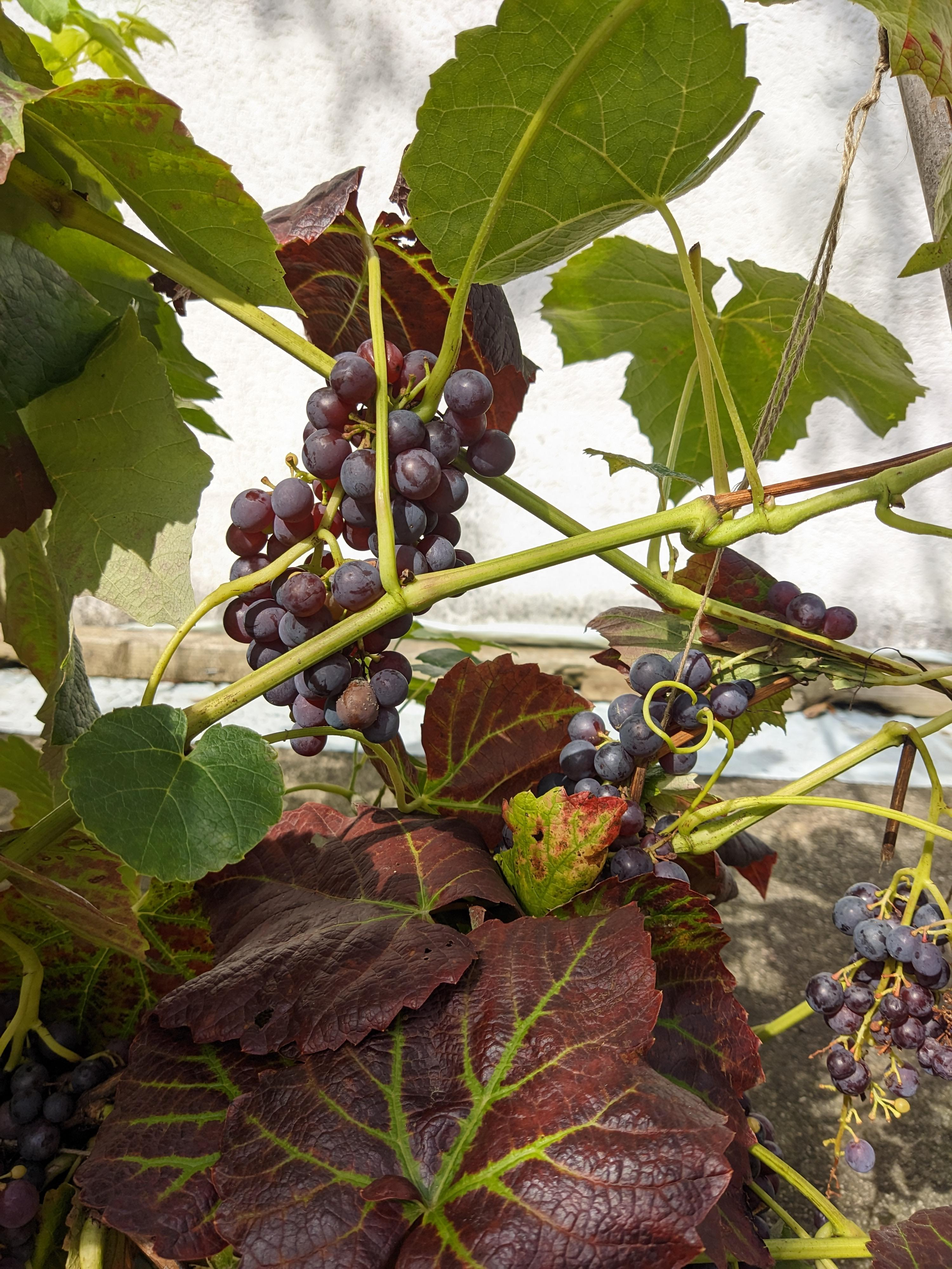Grape Ripe: (224, 340, 519, 754), (539, 577, 858, 890), (806, 882, 947, 1177), (0, 1025, 96, 1266)
